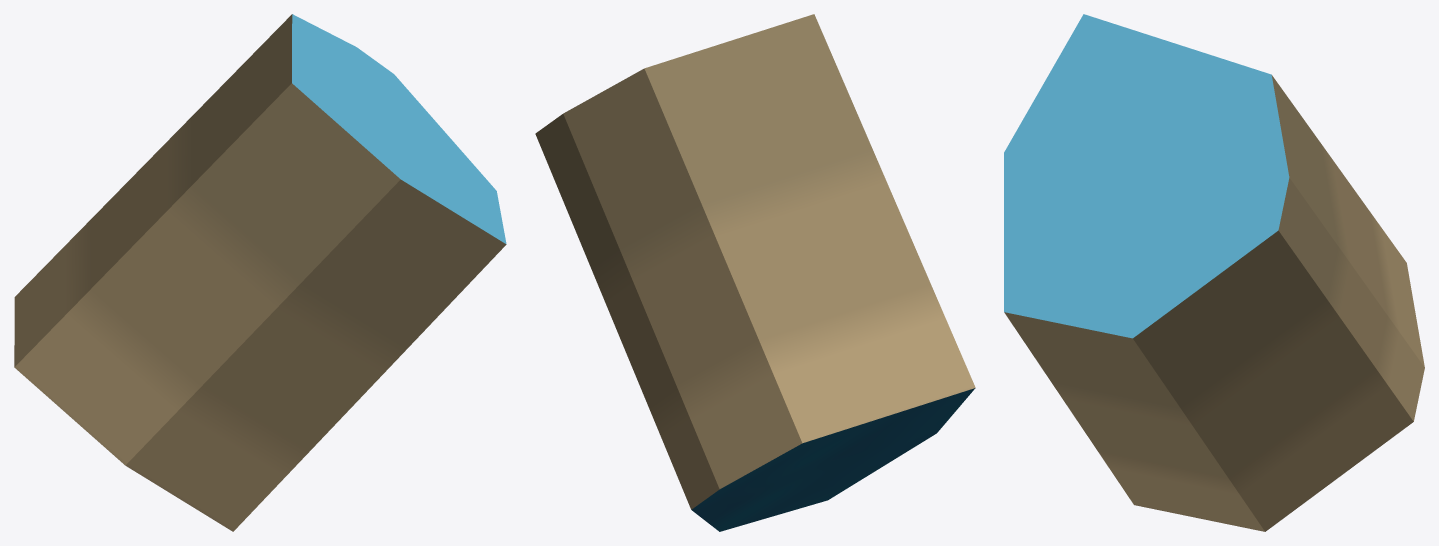
Rendered from 0649_Djibouti.glb.
The picture shows the model from 3 angles, left to right: view 1: azimuth 30°, elevation 25°; view 2: azimuth 150°, elevation 25°; view 3: azimuth 270°, elevation 25°; orthographic projection. The views are drawn at different scales.
Visible parts, largest first — view 1: part_0; view 2: part_0; view 3: part_0.
Part boxes in pixels (x1,y1,x2,y2): part_0: (14,14,506,531); part_0: (535,14,975,531); part_0: (1004,14,1424,531).
Bounding box in the file's own units: 0.2503 × 0.2452 × 0.183.
Materials: 1 (1 with a texture image).
